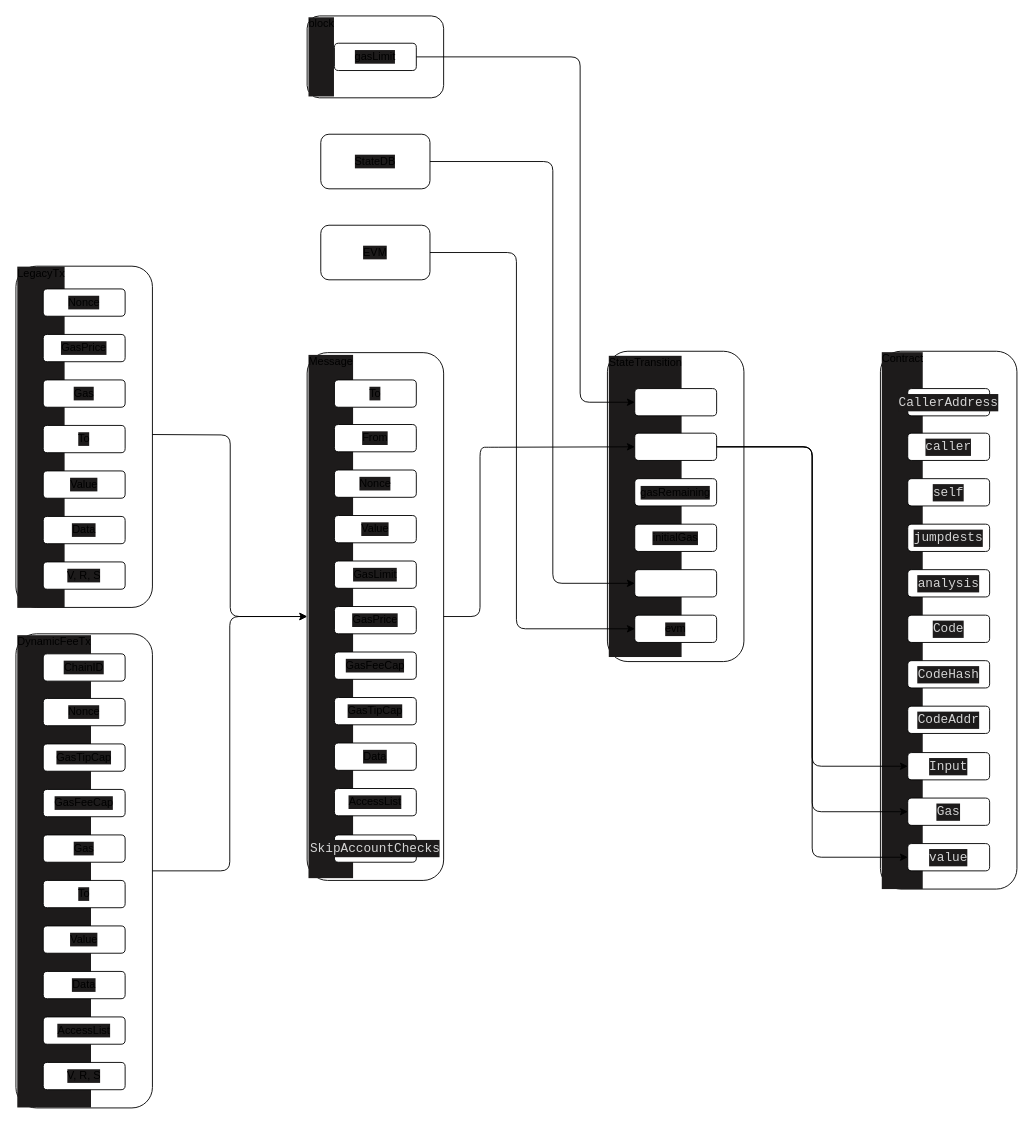
Image size: 1033x1124. Some labels were removed from this diagram. The centre of each missing label's shape, as x and y in pixels:
"gp" belongs at point (675, 402).
"msg" belongs at point (675, 446).
"state" belongs at point (675, 583).
